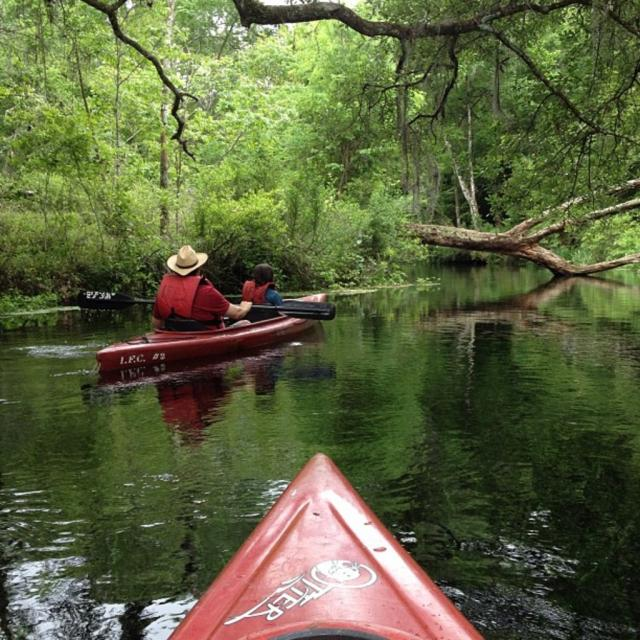Hat: (166, 242, 208, 276)
